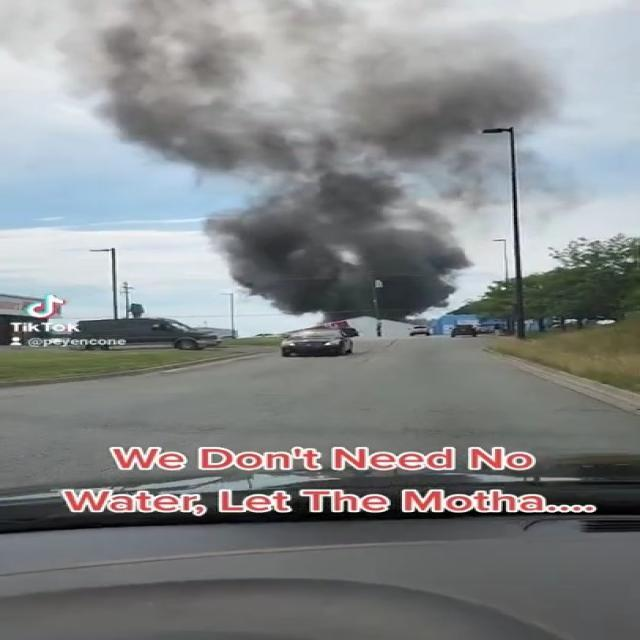Smoke: (207, 188, 478, 334)
